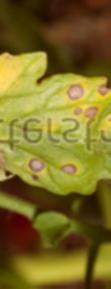Tomato leaf late blight: (0, 52, 111, 201)
